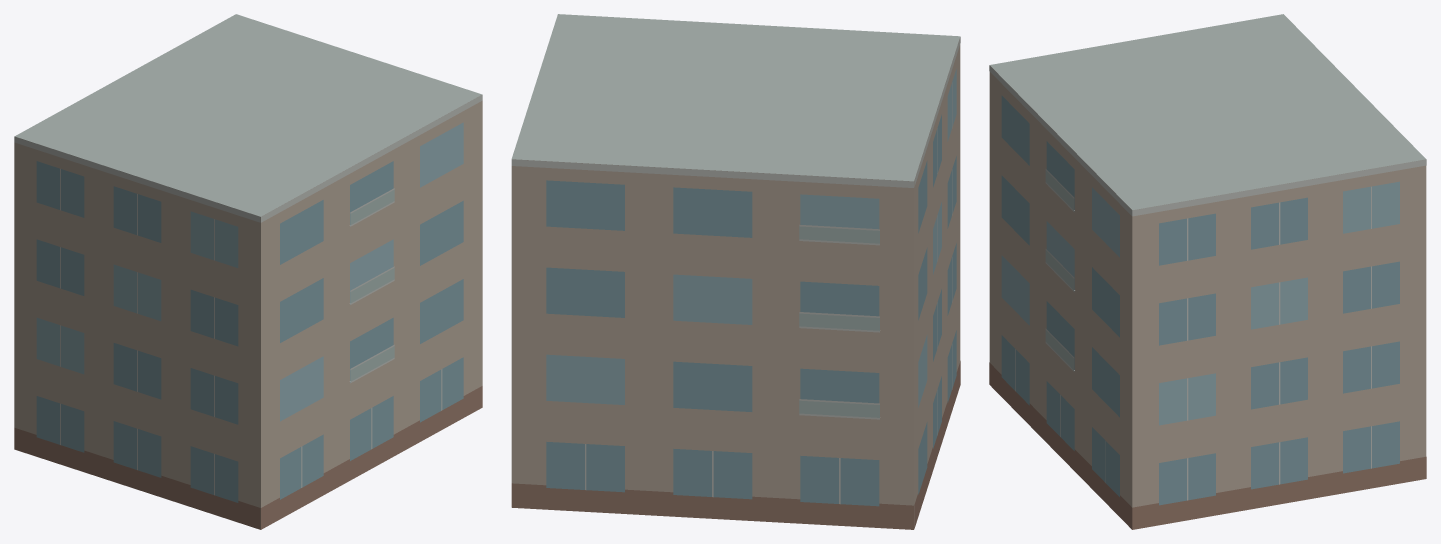
Rendered from survey-upis-32854529.glb.
The picture shows the model from 3 angles, left to right: view 1: azimuth 30°, elevation 25°; view 2: azimuth 150°, elevation 25°; view 3: azimuth 270°, elevation 25°; orthographic projection. The views are drawn at different scales.
Parts seen in each view (by area): view 1: survey-upis-32854529.tmp; view 2: survey-upis-32854529.tmp; view 3: survey-upis-32854529.tmp.
Boxes of the visible parts, x1,y1,x2,y2 form: survey-upis-32854529.tmp: (14, 14, 482, 529); survey-upis-32854529.tmp: (511, 14, 960, 529); survey-upis-32854529.tmp: (989, 14, 1426, 529).
Size of the model in its own units: 16.6 by 12.6 by 15.62.
